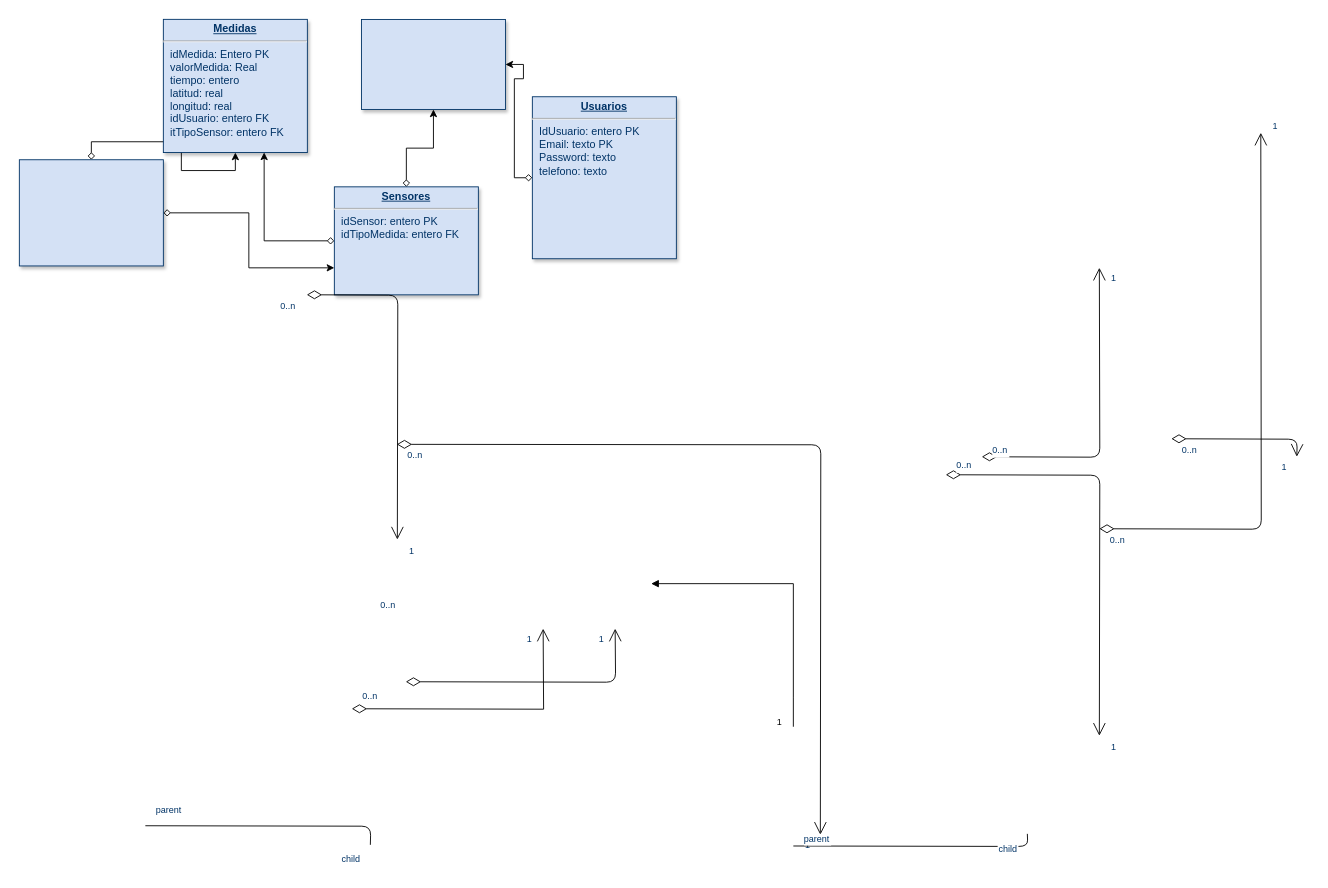
The diagram is 1328 pixels wide and 888 high, and some of its shapes have lost their labels. The shapes that lost their labels are listed below. From the top down, each one's centre as x and y in pixels, then its label:
At point 434,65: "UsuarioSensor idUsuario: entero FK idSensor: entero FK".
At point 92,213: "TipoSensores idTipoMedida: entero PK descripcion: texto".
